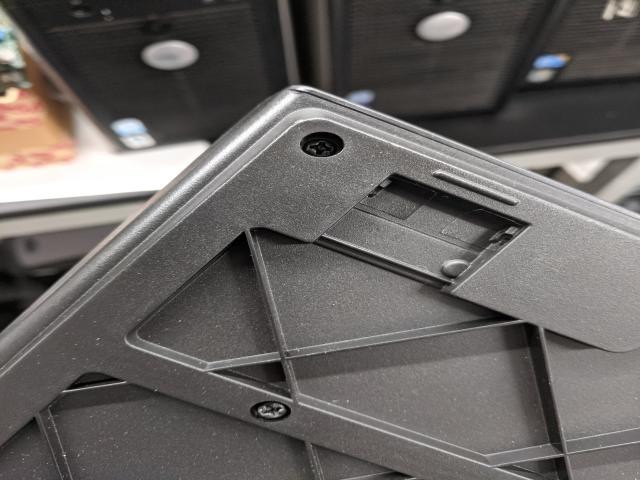CRS: (304, 136, 338, 161), (254, 400, 289, 421)
